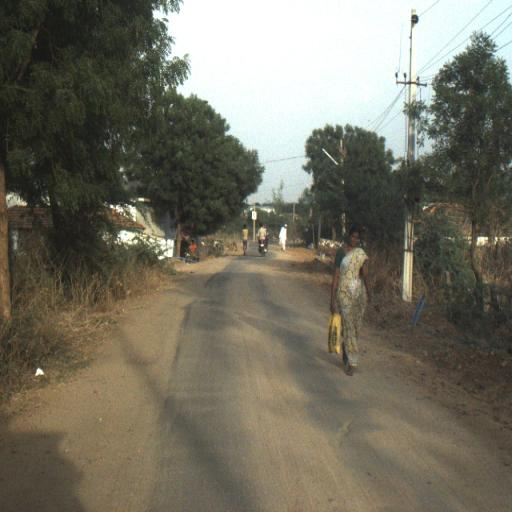street_light_0: (322, 149, 339, 166), (304, 181, 310, 189)
